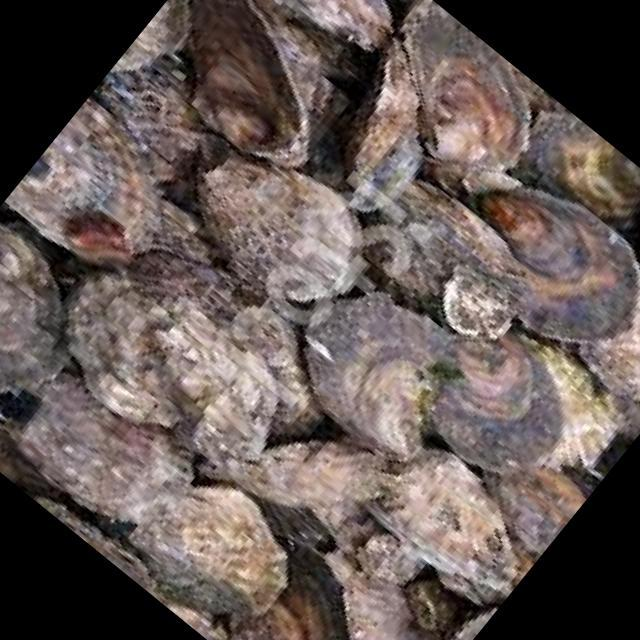Oyster-Closed: (458, 188, 639, 348), (303, 294, 460, 461), (403, 0, 534, 200), (4, 97, 158, 267), (197, 156, 367, 308), (29, 378, 190, 518), (70, 275, 213, 432), (134, 489, 287, 631), (371, 452, 513, 600), (169, 312, 285, 490), (373, 184, 527, 317), (192, 0, 308, 168), (439, 336, 567, 475), (0, 222, 78, 416), (341, 20, 420, 203), (106, 63, 229, 179), (533, 103, 640, 234), (487, 469, 602, 557), (261, 442, 394, 509), (261, 0, 424, 51), (325, 550, 411, 640), (350, 530, 424, 580), (403, 574, 451, 634)
